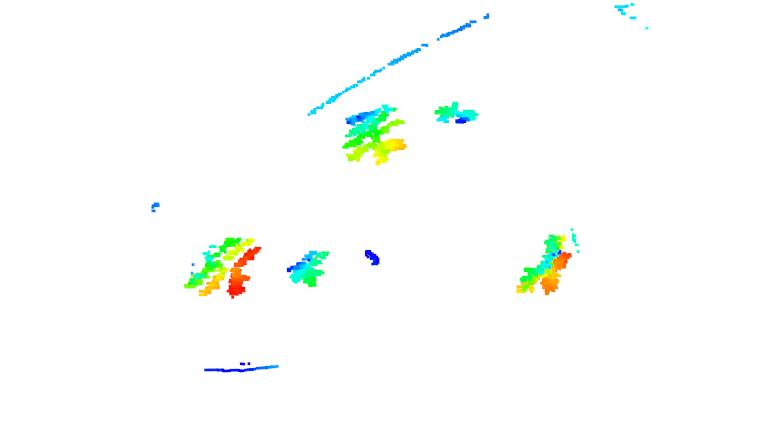chickpea: (179, 233, 263, 301), (338, 97, 413, 166), (513, 232, 573, 300), (284, 245, 333, 290), (433, 95, 483, 128)
